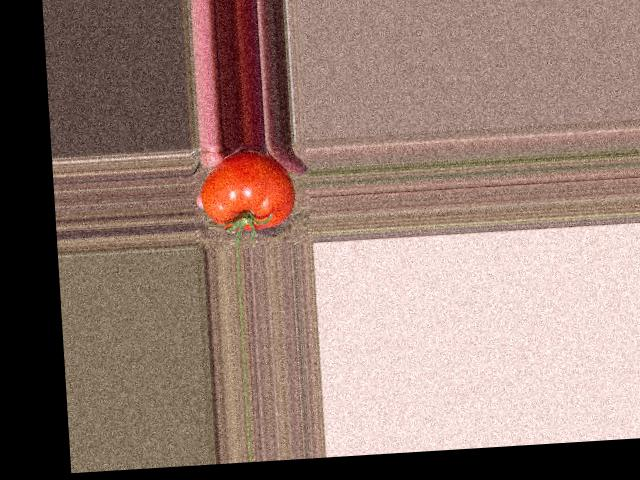tomato: (198, 148, 296, 233)
